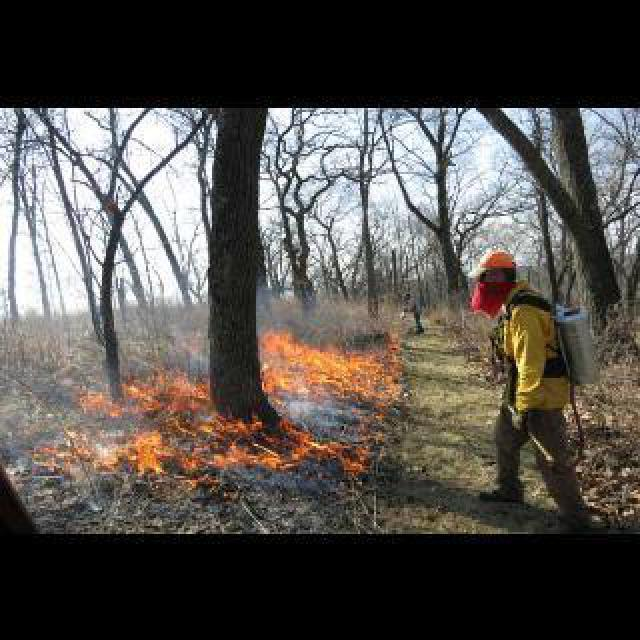fire: (50, 399, 386, 477), (247, 320, 403, 408), (86, 358, 210, 415)
